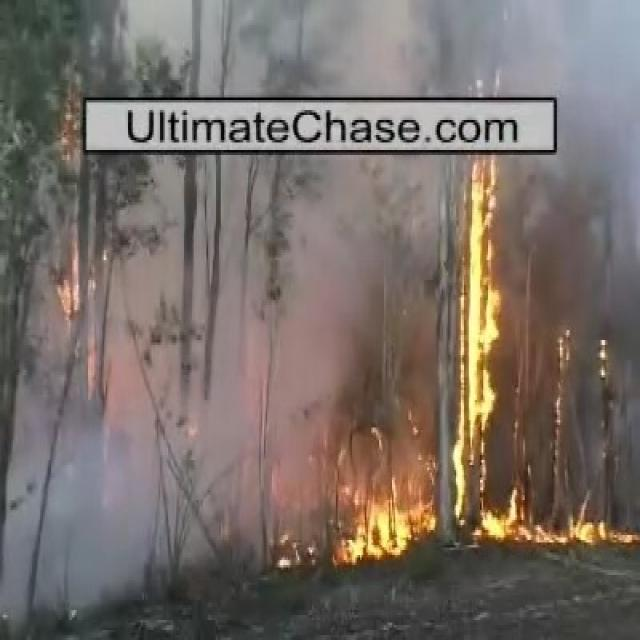fire: (456, 159, 496, 522), (351, 503, 435, 559)
smoke: (21, 409, 107, 603), (507, 12, 627, 89)
